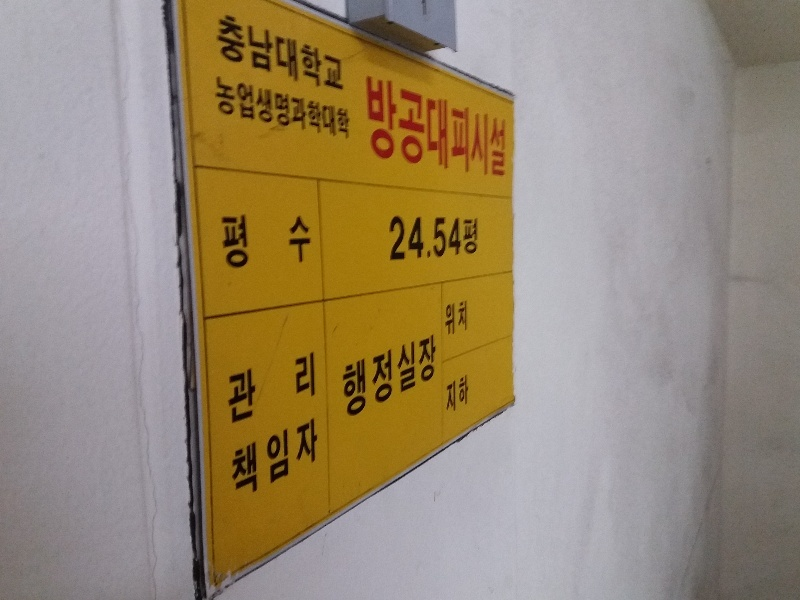text: (369, 72, 384, 181), (385, 72, 400, 181), (401, 72, 416, 181), (417, 72, 432, 181), (433, 72, 448, 181), (449, 72, 464, 181), (465, 72, 480, 181), (481, 72, 496, 181), (353, 333, 368, 423), (369, 333, 384, 423), (385, 333, 400, 423), (401, 333, 416, 423), (417, 333, 432, 423), (241, 416, 256, 503), (257, 416, 272, 503), (273, 416, 288, 503), (289, 416, 304, 503), (305, 416, 320, 503), (225, 9, 240, 89), (241, 9, 256, 89), (257, 9, 272, 89), (273, 9, 288, 89), (289, 9, 304, 89), (305, 9, 320, 89), (321, 9, 336, 89), (497, 72, 508, 181), (225, 351, 240, 426), (241, 351, 256, 426), (257, 351, 272, 426), (273, 351, 288, 426), (289, 351, 304, 426), (340, 333, 352, 423), (229, 416, 240, 503), (225, 212, 240, 271), (241, 212, 256, 271), (257, 212, 272, 271), (273, 212, 288, 271), (289, 212, 304, 271), (213, 9, 224, 89), (225, 75, 240, 133), (241, 75, 256, 133), (257, 75, 272, 133), (273, 75, 288, 133), (289, 75, 304, 133), (305, 351, 316, 426), (401, 213, 416, 263), (417, 213, 432, 263), (433, 213, 448, 263), (449, 213, 464, 263), (449, 372, 464, 419), (387, 213, 400, 263), (465, 213, 478, 263), (337, 9, 345, 89), (213, 75, 224, 133), (321, 99, 336, 141), (449, 298, 464, 340), (337, 99, 351, 141), (307, 99, 320, 141), (305, 212, 314, 271), (433, 333, 438, 423), (364, 72, 368, 181), (217, 212, 224, 271), (465, 372, 470, 419), (305, 75, 309, 133), (444, 298, 448, 340), (465, 298, 469, 340), (445, 372, 448, 419)
